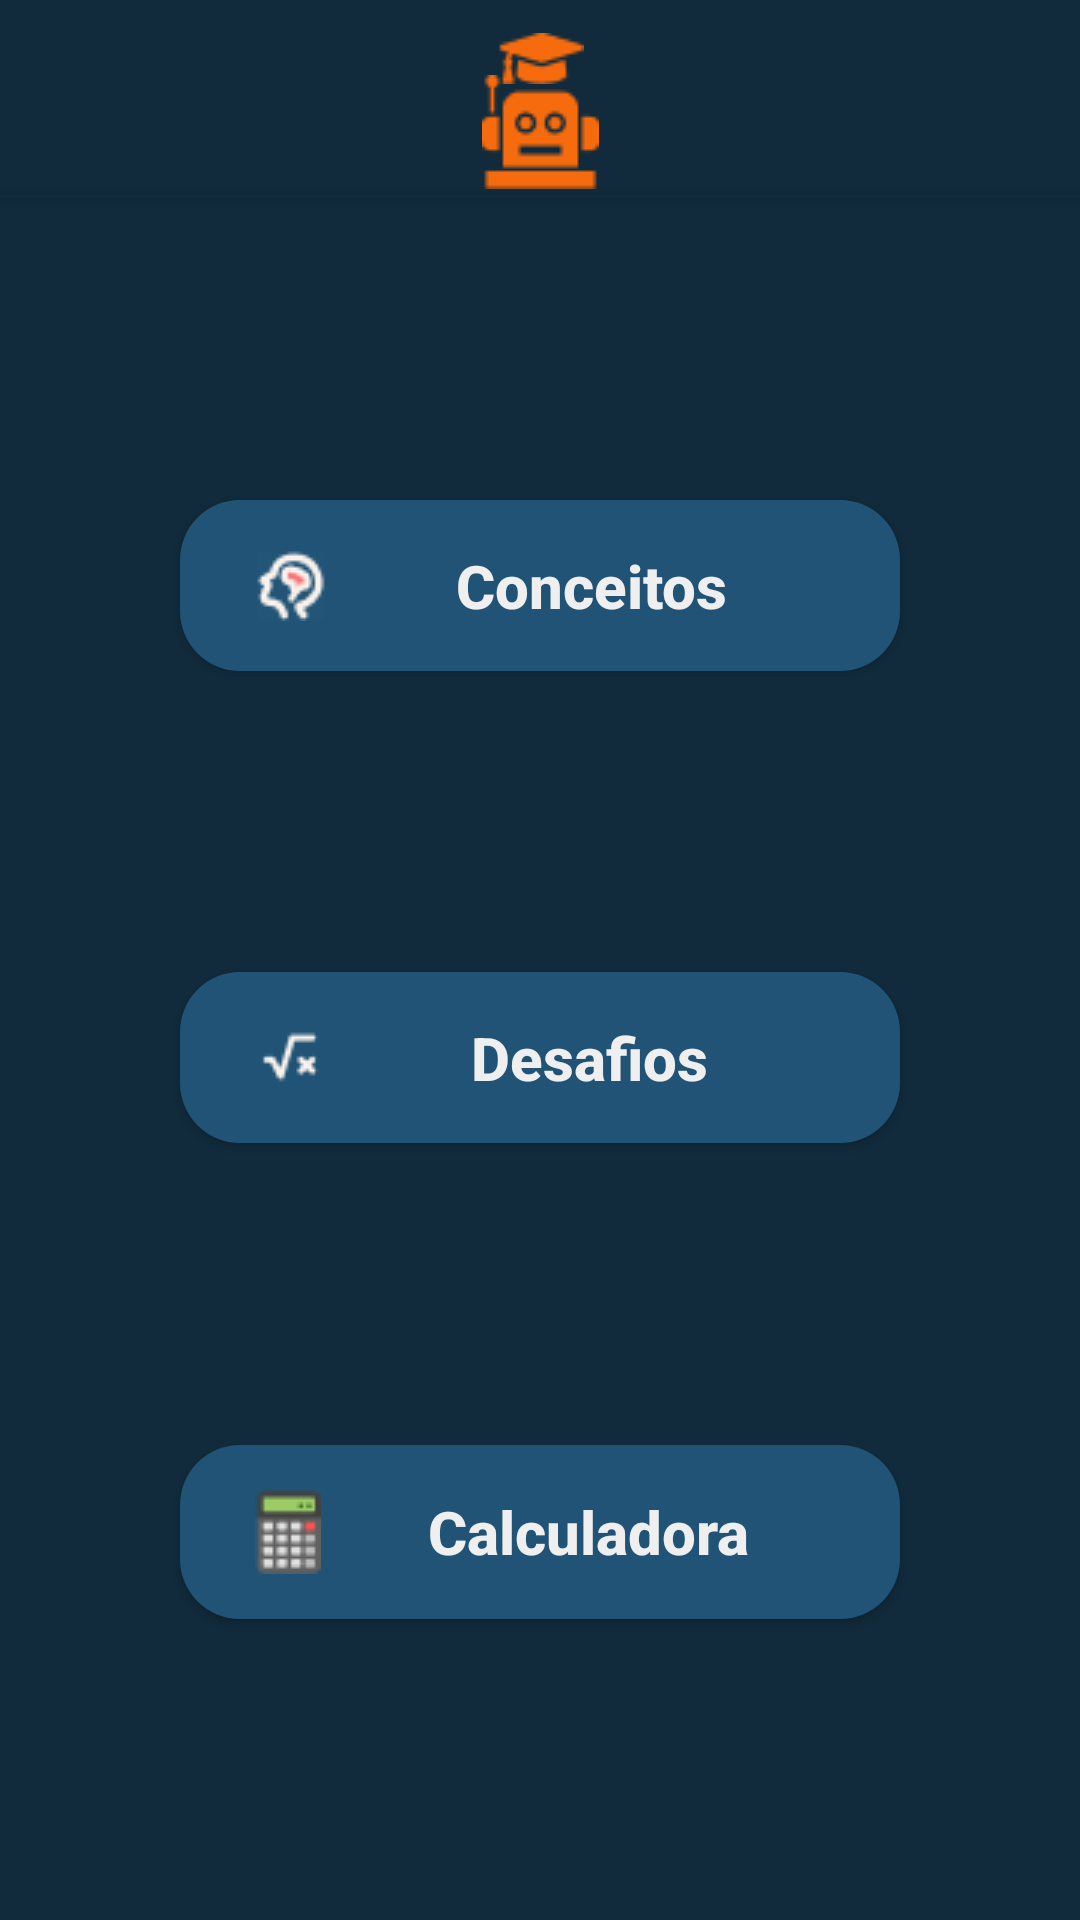

Where icons sit on this 1080x1920 app screen, as (x1, y1, x2, y2):
cap: (499, 33, 584, 84)
minirobot: (482, 75, 599, 189)
